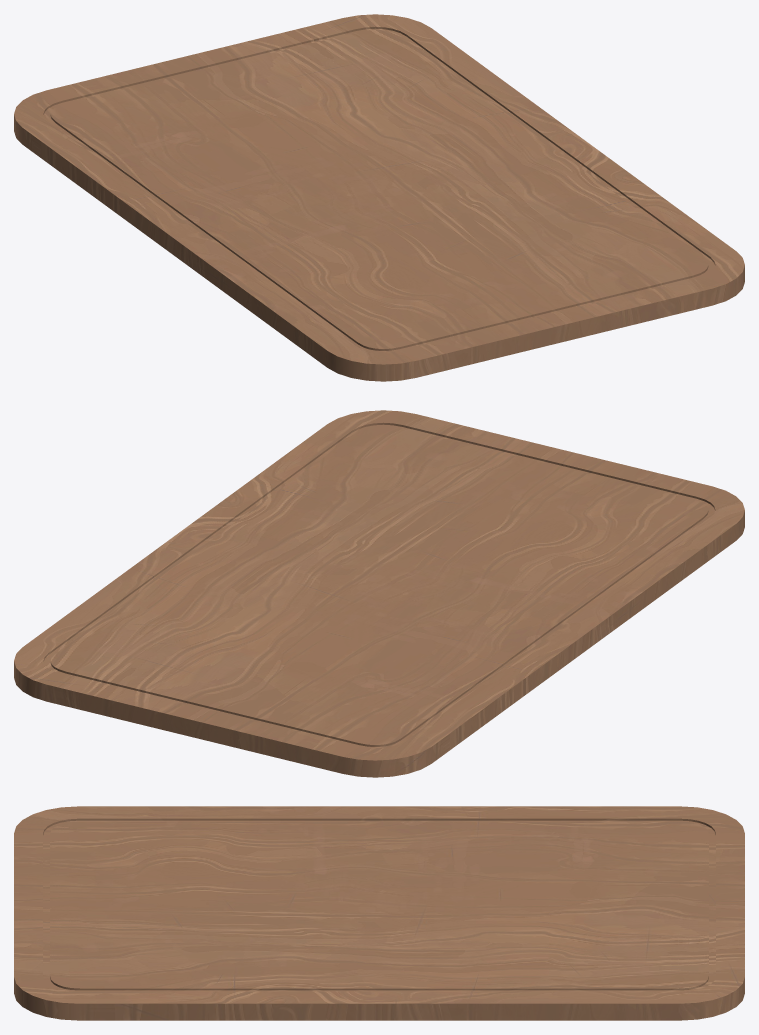
Rendered from tahta1.fbx.
The picture shows the model from 3 angles, top to bottom: view 1: azimuth 30°, elevation 25°; view 2: azimuth 150°, elevation 25°; view 3: azimuth 270°, elevation 25°; orthographic projection.
Visible parts, largest first — view 1: kesme_tahtası; view 2: kesme_tahtası; view 3: kesme_tahtası.
Part boxes in pixels (<box>): kesme_tahtası: <box>14,14,744,381</box>; kesme_tahtası: <box>14,410,744,777</box>; kesme_tahtası: <box>14,806,744,1020</box>.
Bounding box in the file's own units: 87.35 × 3.48 × 137.
